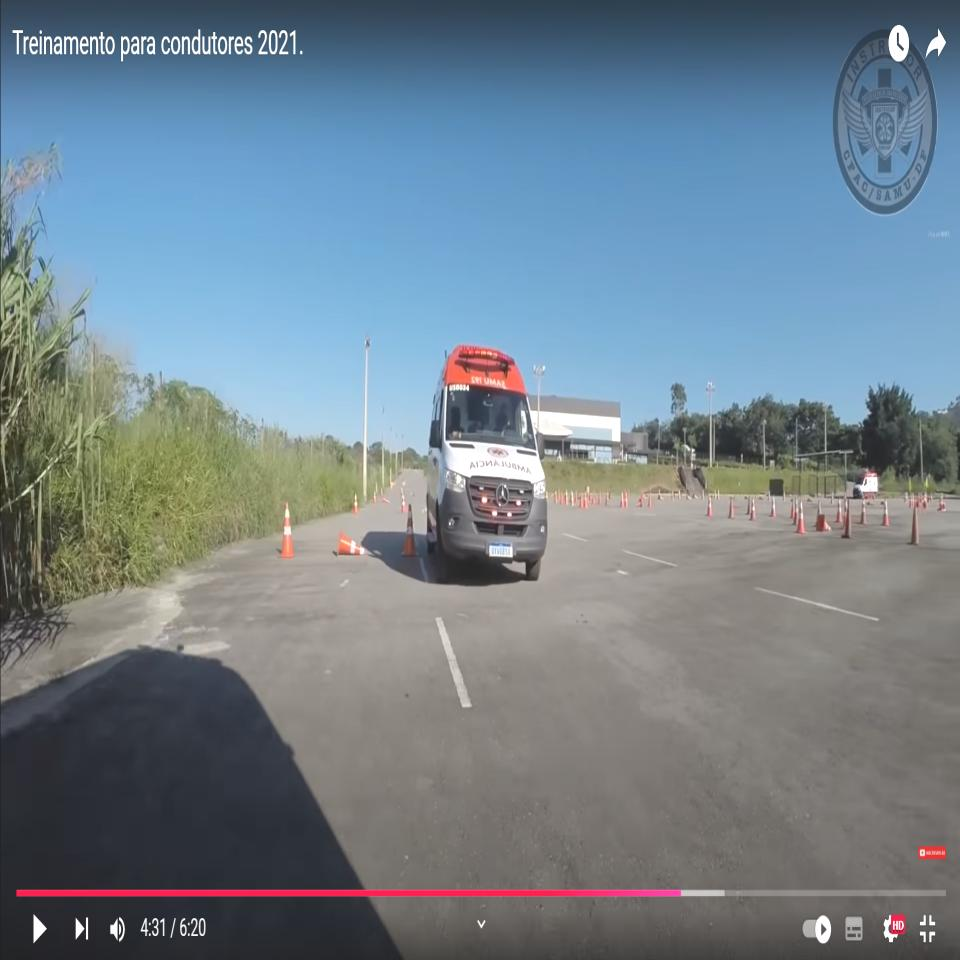ambulancia: (427, 341, 550, 583)
